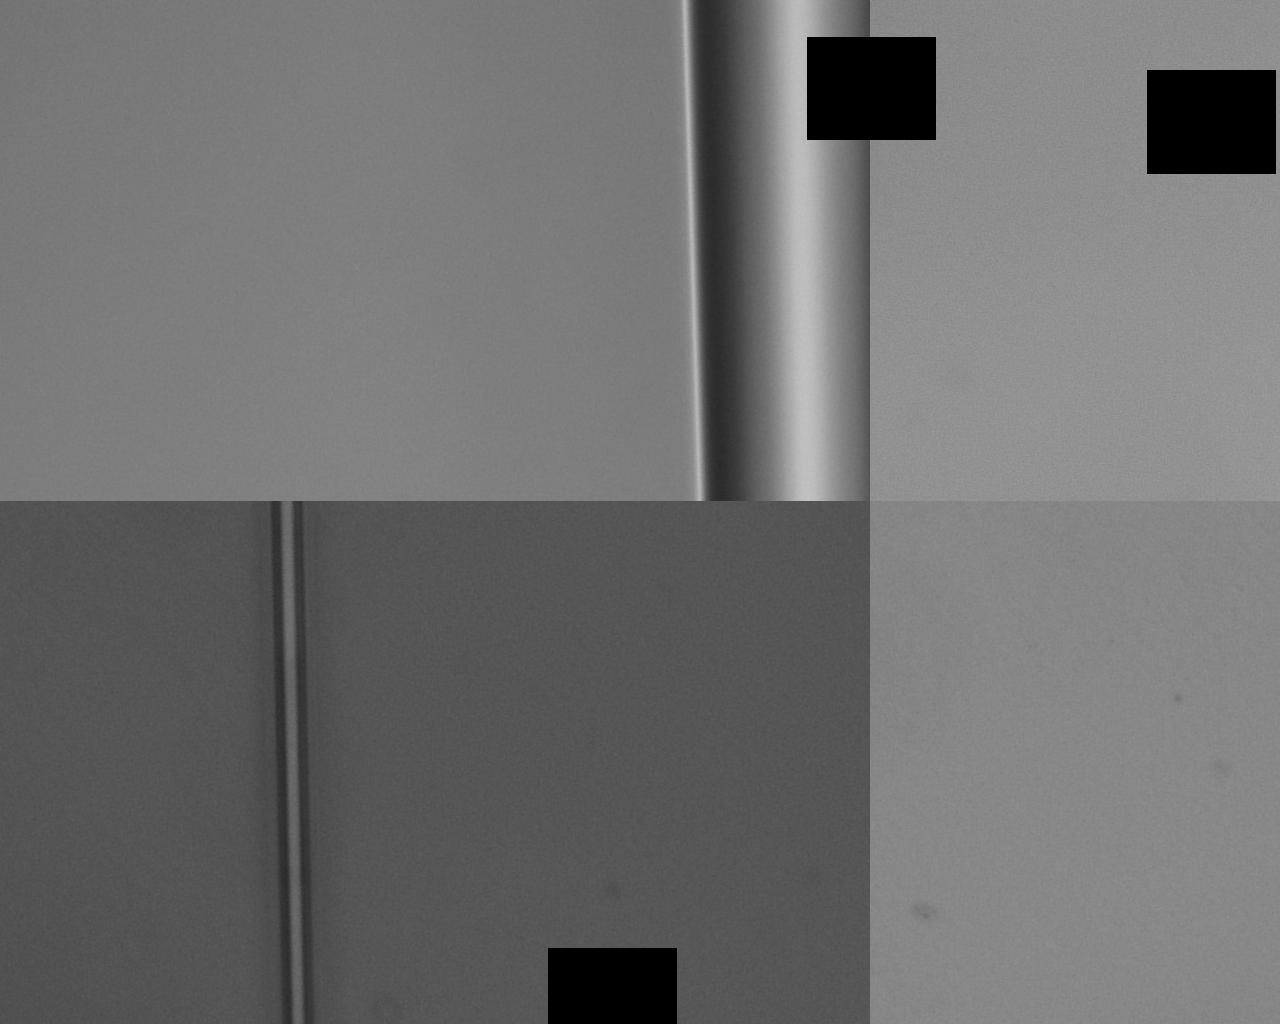fiber: (563, 552, 1101, 1024), (606, 0, 1044, 552)
